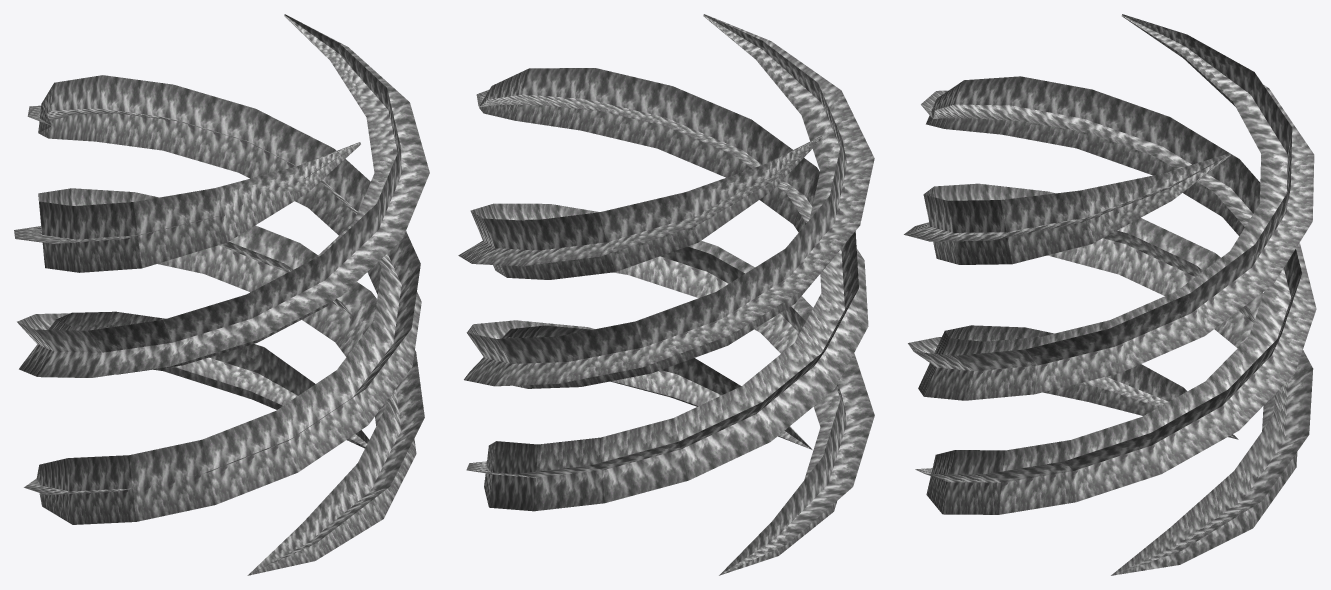
Rendered from WhirlWindC.fbx.
3 views of the same model, side by side, from view 1: azimuth 30°, elevation 25°; view 2: azimuth 150°, elevation 25°; view 3: azimuth 270°, elevation 25° (orthographic).
Visible parts, largest first — view 1: SM_WEP_Eff_D24NJ1_C_01.mo; view 2: SM_WEP_Eff_D24NJ1_C_01.mo; view 3: SM_WEP_Eff_D24NJ1_C_01.mo.
Boxes of the visible parts, <box> form: SM_WEP_Eff_D24NJ1_C_01.mo: <box>14,14,429,575</box>; SM_WEP_Eff_D24NJ1_C_01.mo: <box>458,14,874,575</box>; SM_WEP_Eff_D24NJ1_C_01.mo: <box>904,14,1316,575</box>.
Bounding box in the file's own units: 82.97 × 90.28 × 83.6.
